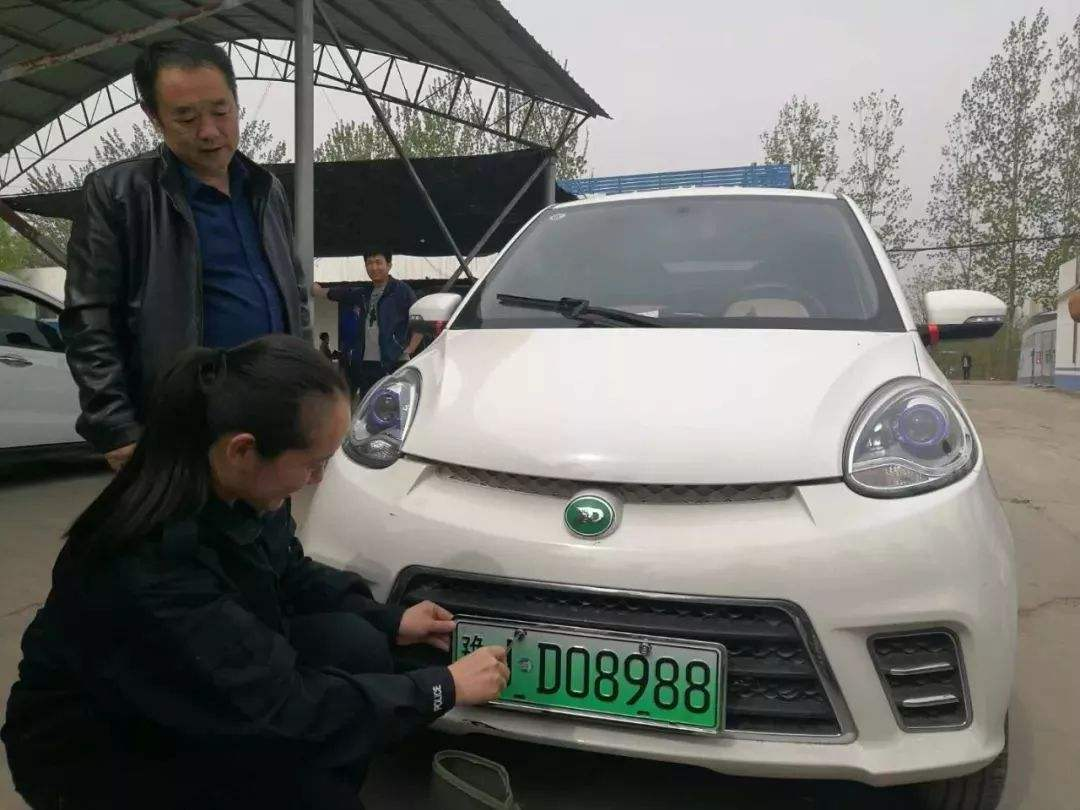plate: (430, 597, 745, 756)
